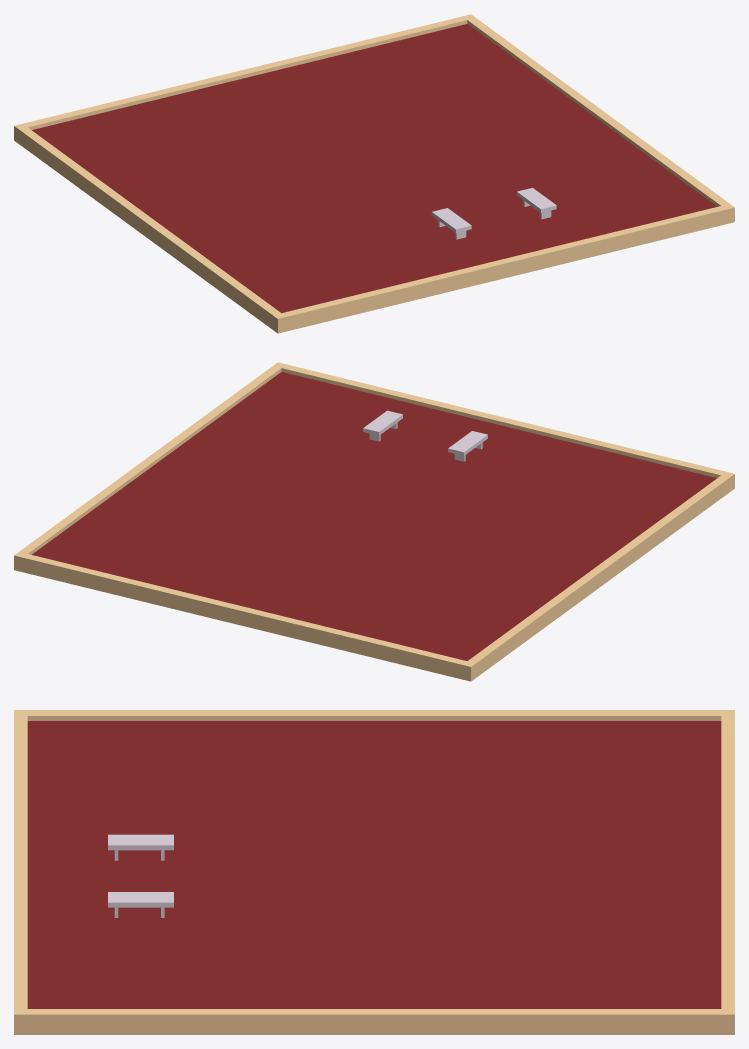
File: floorwithwhitebranch.glb
The picture shows the model from 3 angles, top to bottom: view 1: azimuth 30°, elevation 25°; view 2: azimuth 150°, elevation 25°; view 3: azimuth 270°, elevation 25°; orthographic projection. The views are drawn at different scales.
Visible parts, largest first — view 1: Floor_4_5; view 2: Floor_4_5; view 3: Floor_4_5.
Part boxes in pixels (x1,y1,x2,y2): Floor_4_5: [14, 14, 734, 333]; Floor_4_5: [14, 362, 734, 681]; Floor_4_5: [14, 710, 734, 1034].
Size of the model in its own units: 6.96 by 0.3955 by 6.96.
